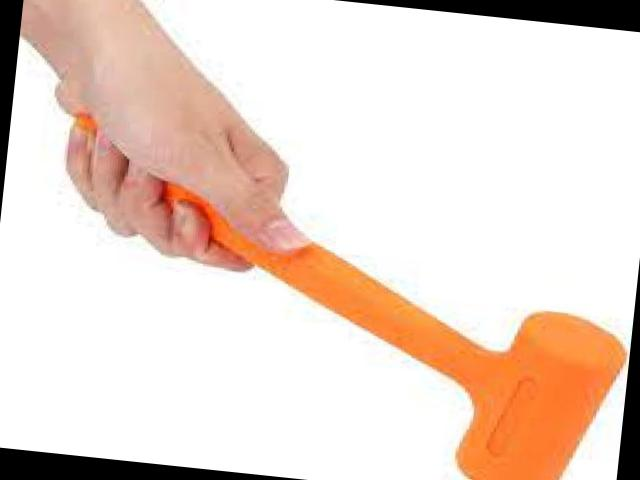hammer: (40, 94, 640, 480)
